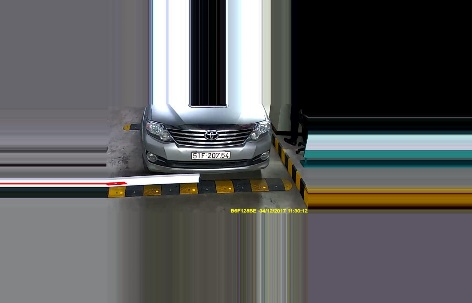plate: (190, 148, 231, 160)
